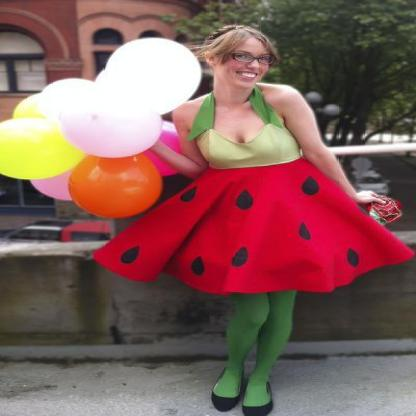dress: (93, 91, 410, 294)
shoe: (211, 391, 273, 415)
